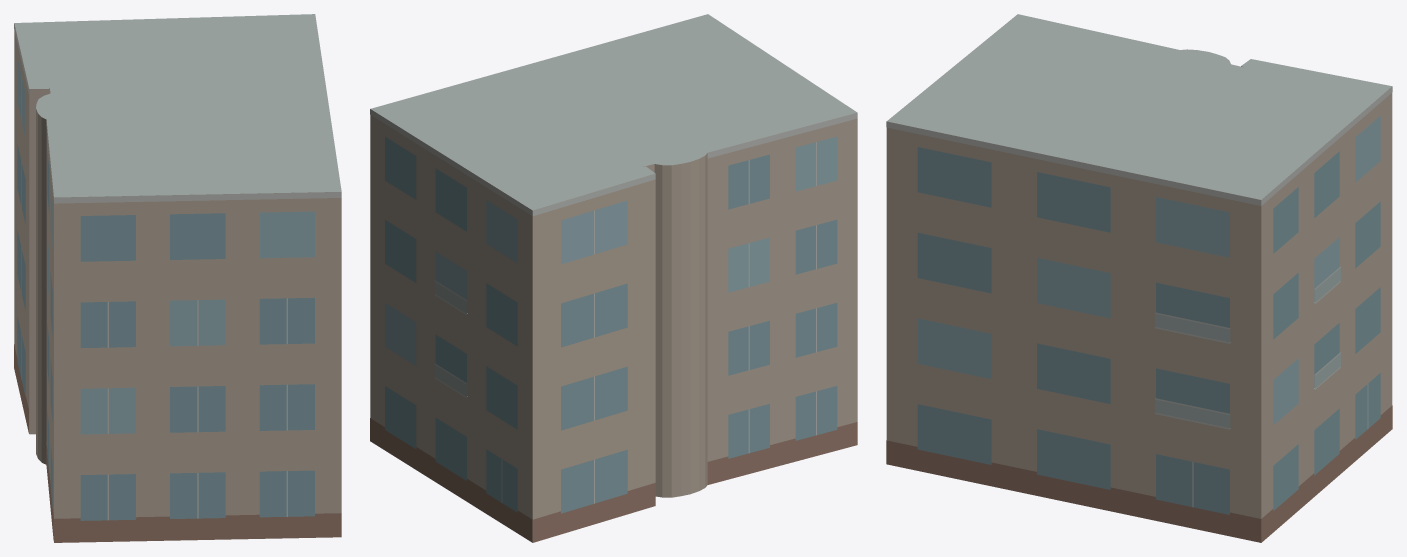
The model's file is survey-upis-32748759.glb.
The picture shows the model from 3 angles, left to right: view 1: azimuth 30°, elevation 25°; view 2: azimuth 150°, elevation 25°; view 3: azimuth 270°, elevation 25°; orthographic projection. The views are drawn at different scales.
Visible parts, largest first — view 1: survey-upis-32748759.tmp; view 2: survey-upis-32748759.tmp; view 3: survey-upis-32748759.tmp.
Part boxes in pixels (x1=…): survey-upis-32748759.tmp: x1=14, y1=14, x2=341, y2=542; survey-upis-32748759.tmp: x1=370, y1=14, x2=857, y2=542; survey-upis-32748759.tmp: x1=886, y1=14, x2=1392, y2=542.
Bounding box in the file's own units: 16.12 × 13.85 × 18.53.
